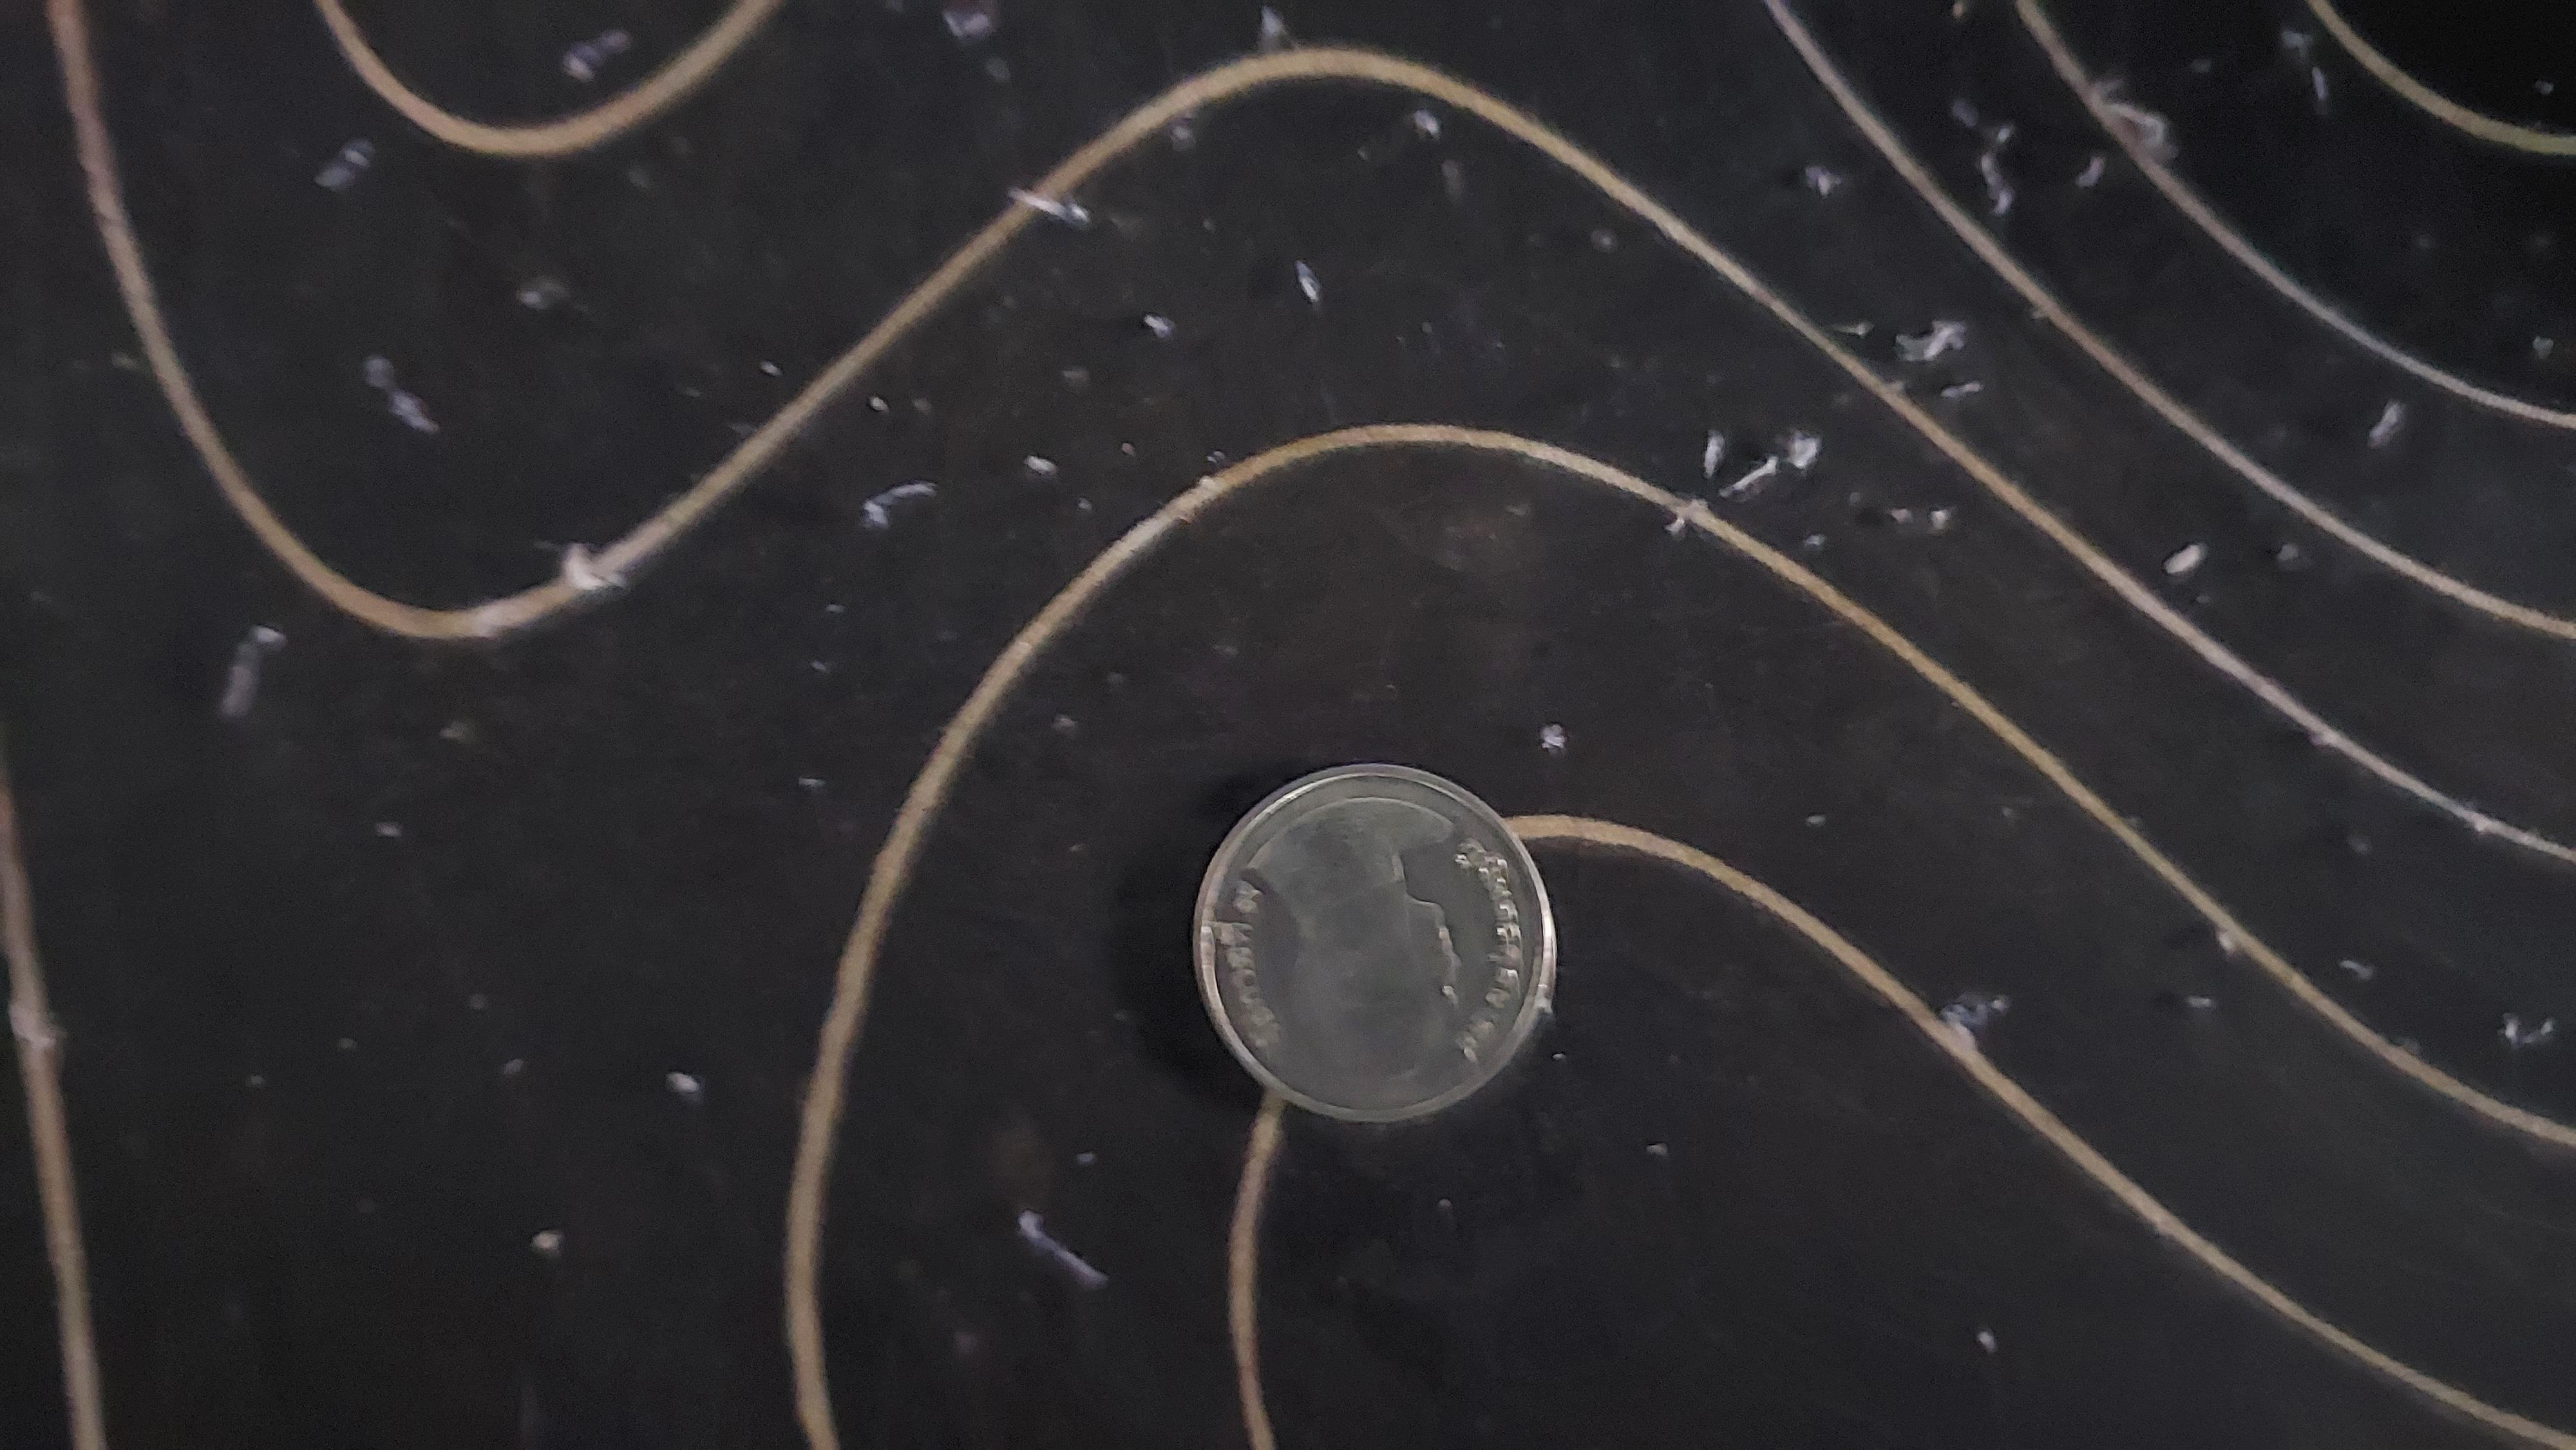1baht: (1154, 760, 1661, 1105)
